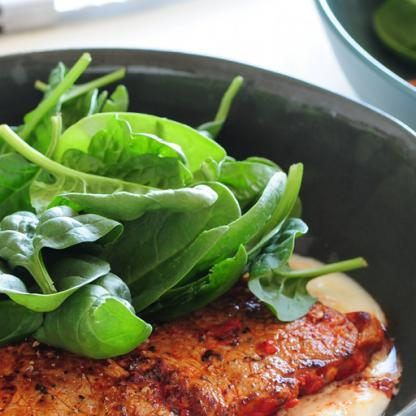knife: (0, 0, 320, 69)
